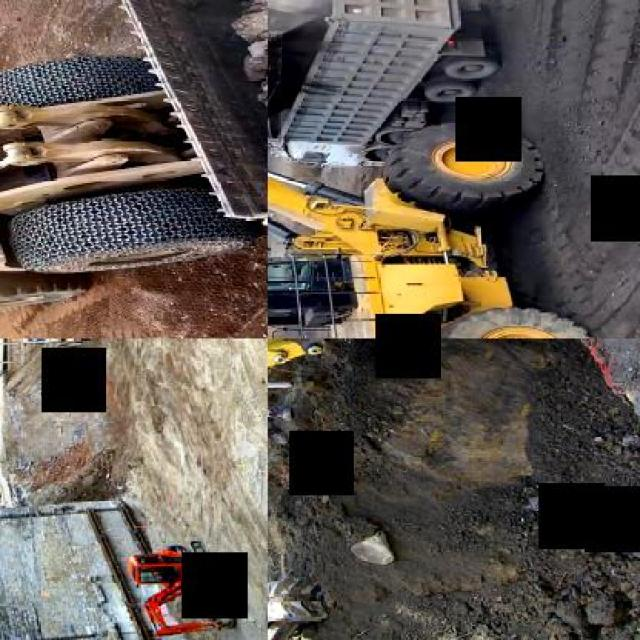buldozerpayloadergrader: (268, 0, 615, 337), (0, 0, 266, 331)
dump_truck: (268, 0, 510, 168)
excavator: (268, 338, 495, 638), (128, 538, 238, 633)
